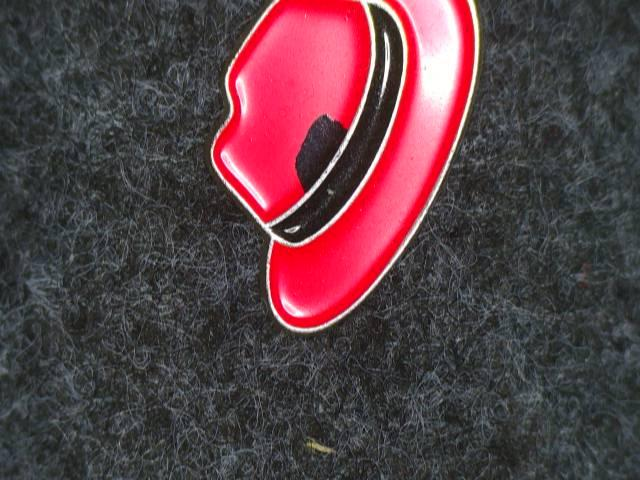Red-Hat: (192, 0, 515, 355)
Scratch: (288, 92, 358, 203)
